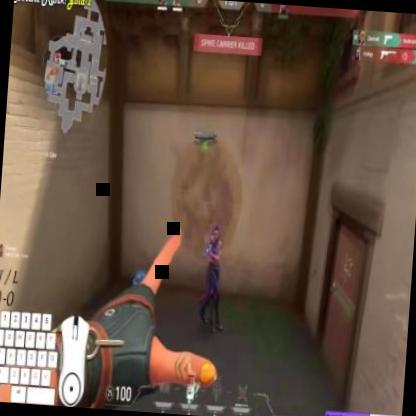enemy: (198, 224, 230, 330)
enemy_head: (212, 227, 219, 240)
